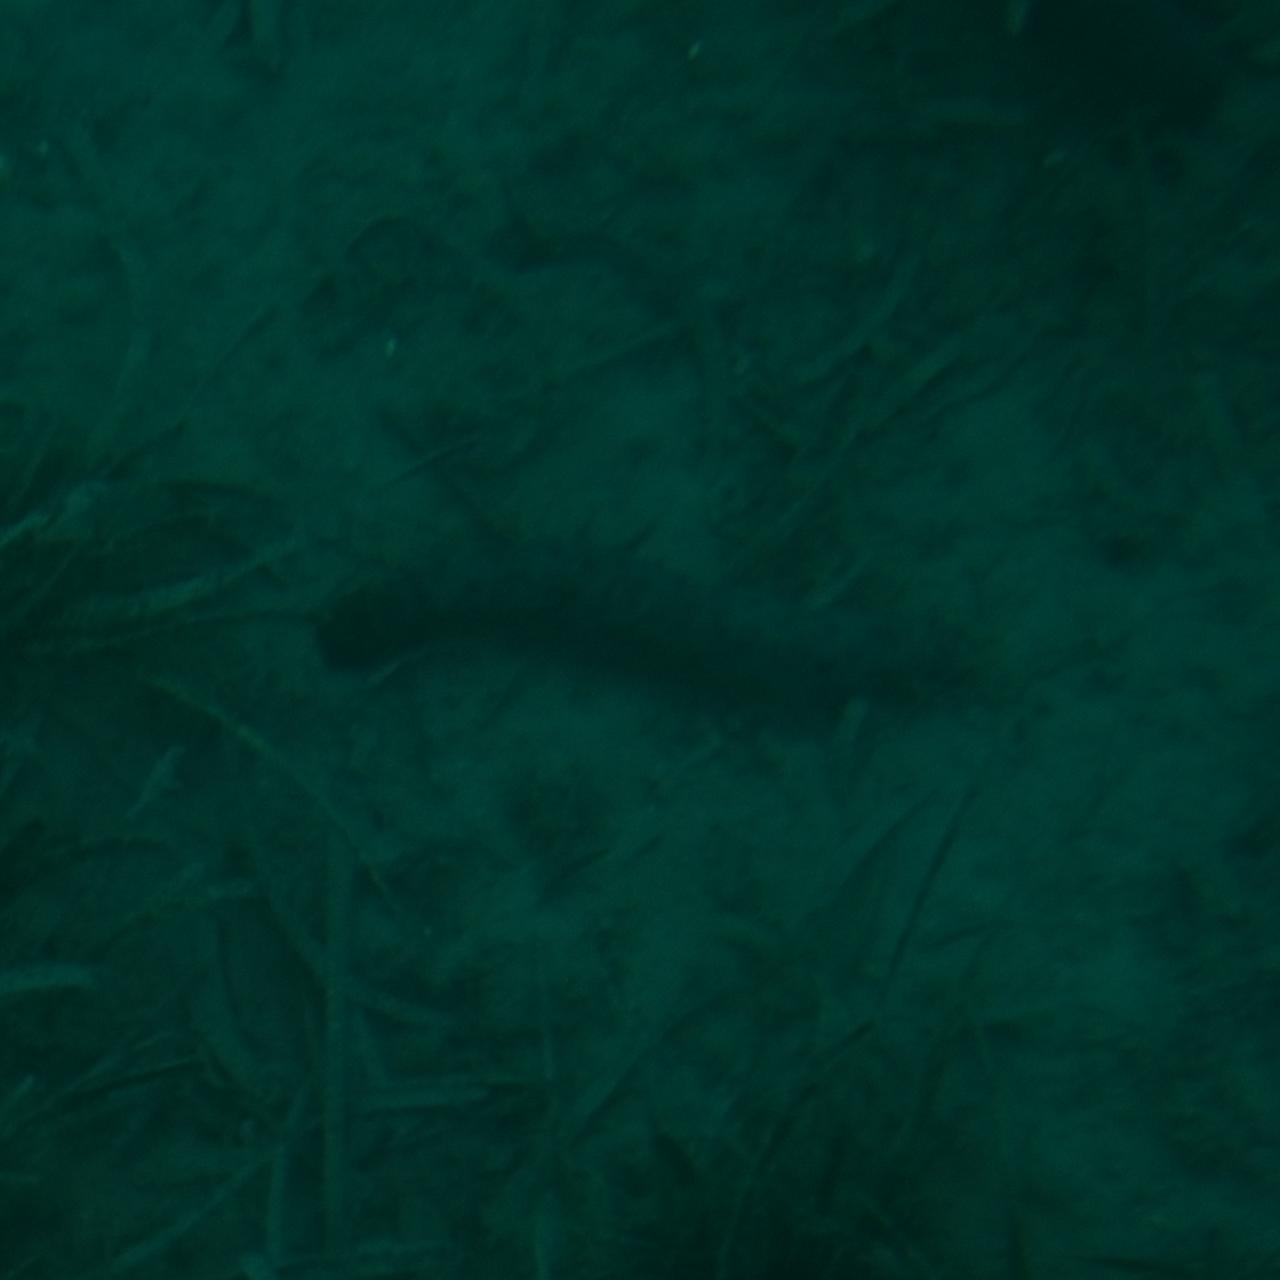Holothuria tubulosa: (307, 532, 973, 748)
